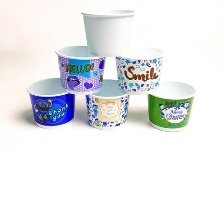paper_cup: (77, 4, 139, 60), (22, 74, 78, 131), (52, 40, 108, 96), (144, 76, 199, 133), (80, 77, 133, 133), (113, 40, 166, 96)
